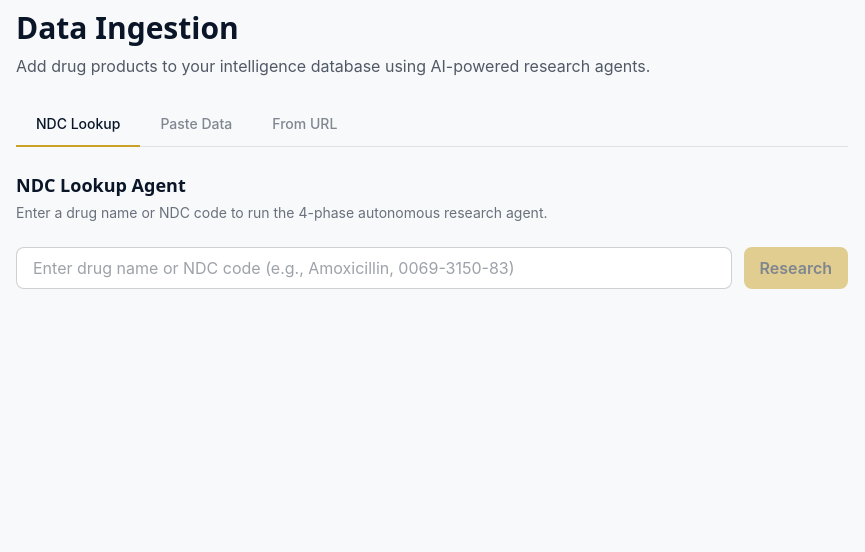
it: IngestionHub › switches between all three modes
expect the field with test id "ndc-input" is shown: met, box [16,247,732,289]
Note: Switch to Paste
What coordinates should you click on to do the following:
click the tab with test id "tab-paste-data"
I would click on:
 (196, 124)
Its box is [140,102,252,146].
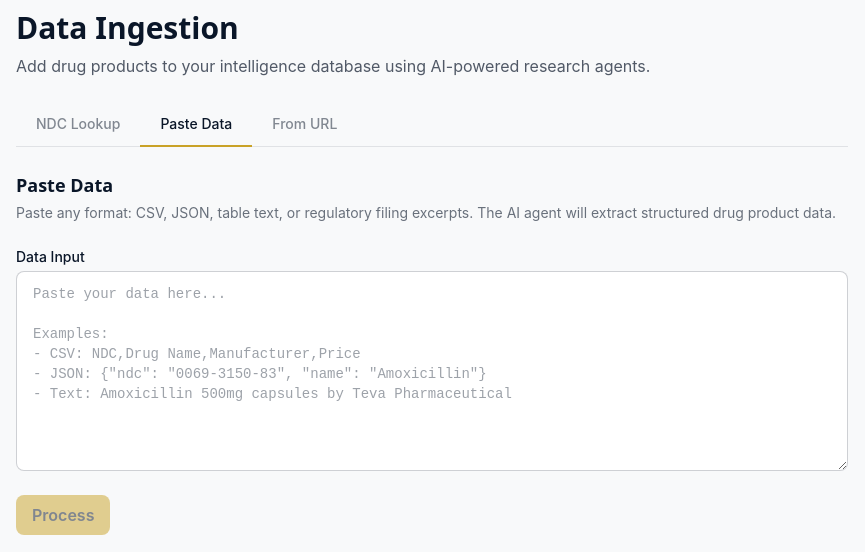
expect the text box with test id "paste-textarea" is shown: met, box [16,271,848,471]
Note: Switch to URL
What coordinates should you click on to do the following:
click the tab with test id "tab-from-url"
I would click on:
 (305, 124)
Its box is [252,102,357,146].
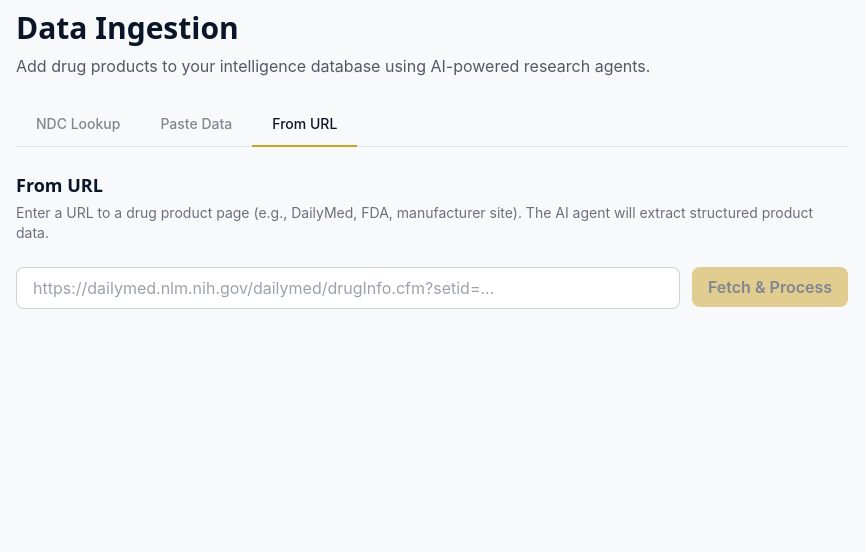
expect the field with test id "url-input" is shown: met, box [16,267,680,309]
Note: Switch back to NDC
What coordinates should you click on to do the following:
click the tab with test id "tab-ndc-lookup"
I would click on:
 (78, 124)
Its box is [16,102,140,146].
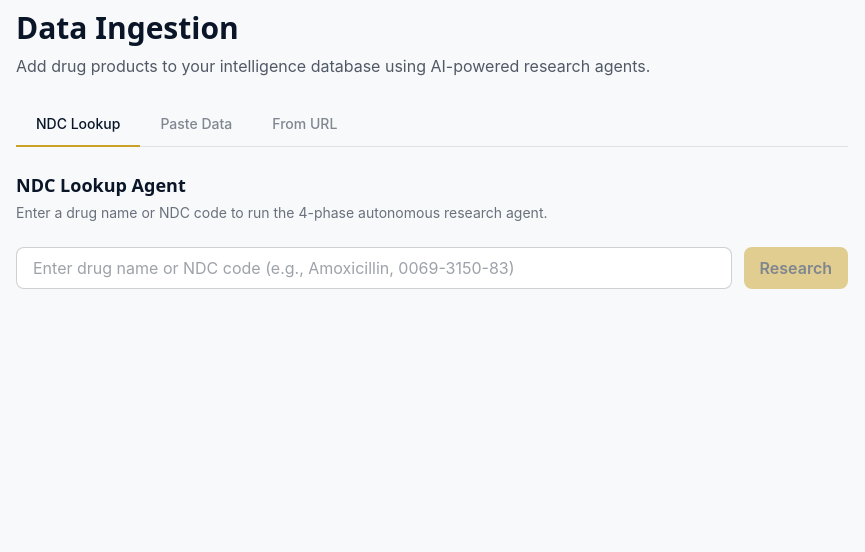
expect the field with test id "ndc-input" is shown: met, box [16,247,732,289]
